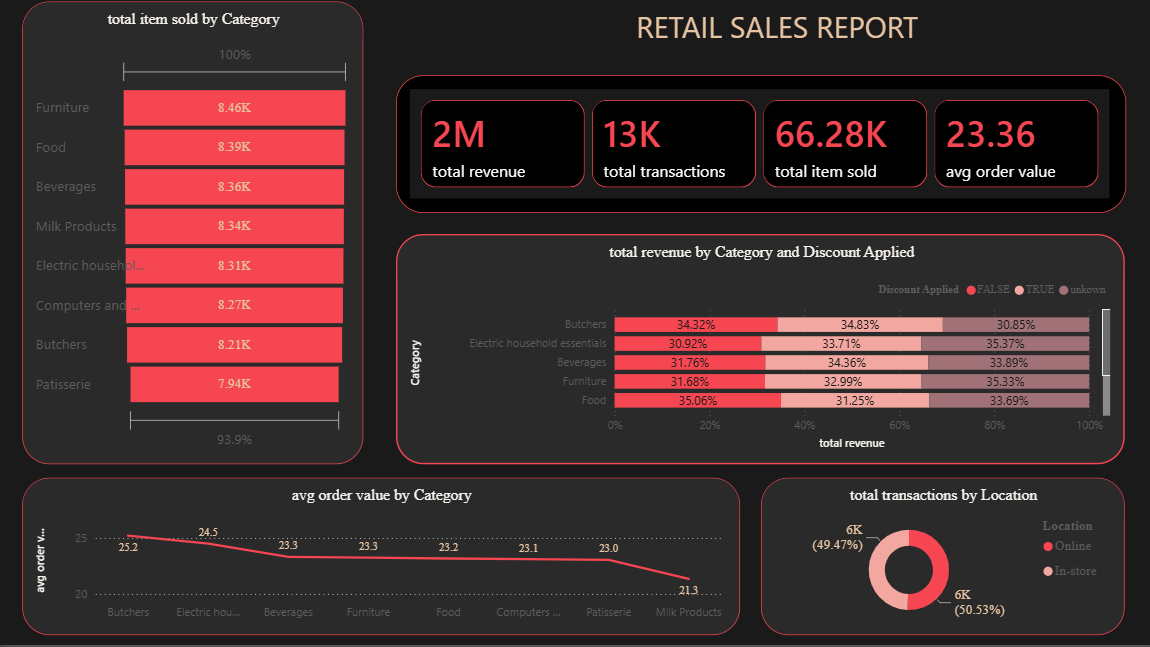

The dashboard page shown, as its layout file describes it:
{"tool":"powerbi","page":{"name":"Page 1","canvas":[1280,720],"ordinal":0},"visuals":[{"type":"cardVisual","fields":{"Data":["retail_store_sales_clean.total revenue","retail_store_sales_clean.total transactions","retail_store_sales_clean.total item sold","retail_store_sales_clean.avg order value"]},"box":[439.1,94.7,801.4,150.9],"z":0},{"type":"hundredPercentStackedBarChart","fields":{"Category":["retail_store_sales_clean.Category"],"Y":["retail_store_sales_clean.total revenue"],"Series":["retail_store_sales_clean.Discount Applied"]},"box":[439.1,269,800,252.5],"z":1000},{"type":"funnel","fields":{"Category":["retail_store_sales_clean.Category","retail_store_sales_clean.Location"],"Y":["retail_store_sales_clean.total item sold"]},"box":[28.8,13.7,374.6,507.7],"z":1001},{"type":"donutChart","fields":{"Y":["retail_store_sales_clean.total transactions"],"Category":["retail_store_sales_clean.Location"]},"box":[839.8,536.5,399.3,172.9],"z":1002},{"type":"lineChart","fields":{"Y":["retail_store_sales_clean.avg order value"],"Category":["retail_store_sales_clean.Category"]},"box":[28.8,536.5,787.7,172.9],"z":1003},{"type":"textbox","box":[525.6,15.1,664.2,65.9],"z":1004}]}

Visuals, with their boxes in screenshot pixels (x1, y1, x2, y2), scaled from the page's 1280x720 canvas onto the 1150x647 screenshot:
cardVisual - retail_store_sales_clean.total revenue x retail_store_sales_clean.total transactions: Rect(395, 85, 1115, 221)
hundredPercentStackedBarChart - retail_store_sales_clean.Category x retail_store_sales_clean.total revenue: Rect(395, 242, 1113, 469)
funnel - retail_store_sales_clean.Category x retail_store_sales_clean.Location: Rect(26, 12, 362, 469)
donutChart - retail_store_sales_clean.total transactions x retail_store_sales_clean.Location: Rect(755, 482, 1113, 637)
lineChart - retail_store_sales_clean.avg order value x retail_store_sales_clean.Category: Rect(26, 482, 734, 637)
textbox: Rect(472, 14, 1069, 73)
